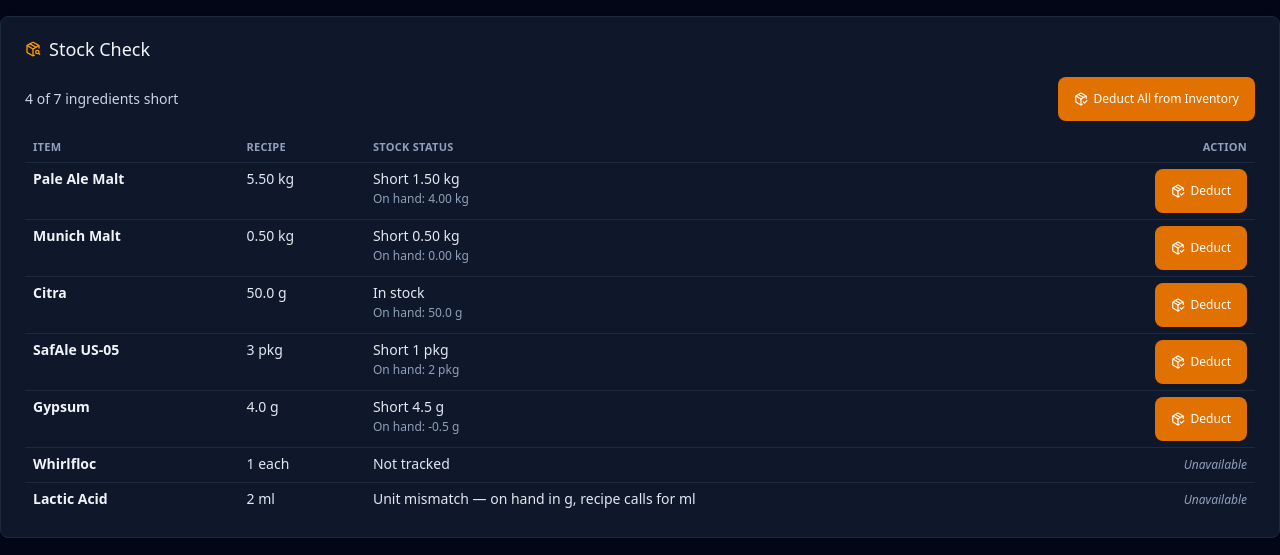
Scenario: AC-11: per-item Deduct button calls checkoffInventoryItem and flips the row to Deducted › clicking Deduct issues the pinned request and, on resolve, shows the Deducted badge + Undo button
Expected: the text "4 of 7 ingredients short" is shown, [25,89,178,109]
Click the button with test id "stock-check-deduct-pale ale malt" at (1201, 190), box [1155,168,1247,212]
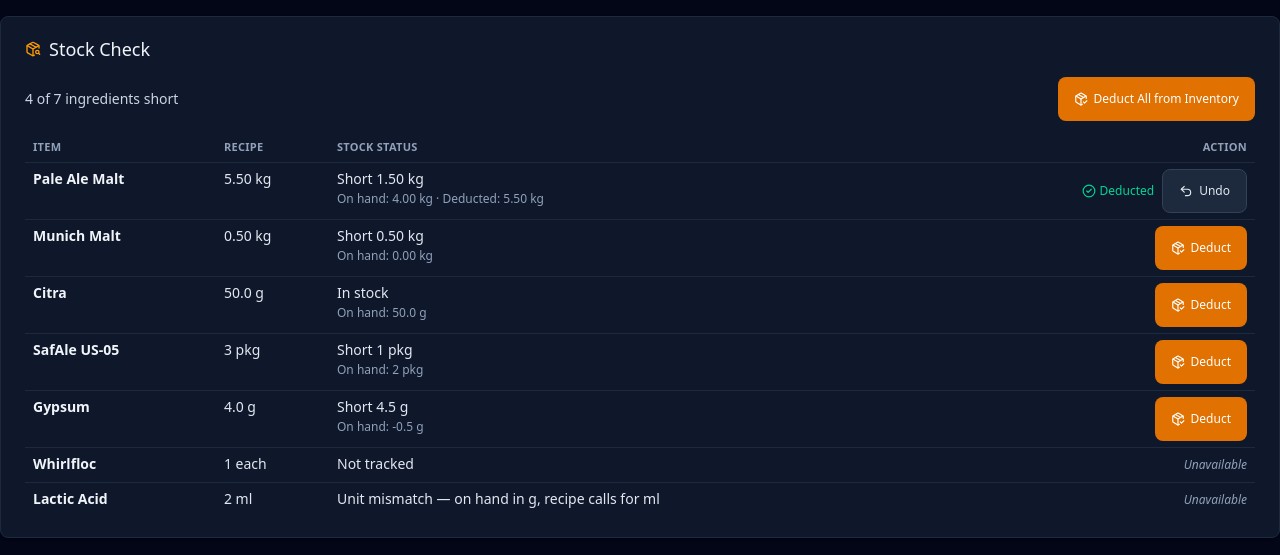
Expected: the element with test id "stock-check-checked-badge-pale ale malt" is shown, [1082,182,1154,198]
Expected: the button with test id "stock-check-undo-pale ale malt" is shown, [1162,168,1247,212]
